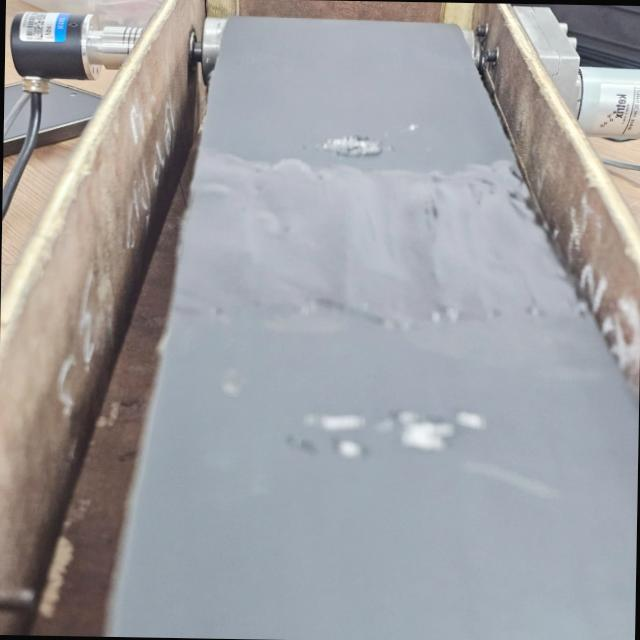Joint_Damage: (179, 154, 535, 321)
crack: (286, 408, 487, 459), (464, 461, 514, 480)
punture: (313, 134, 393, 157), (400, 123, 419, 132)
